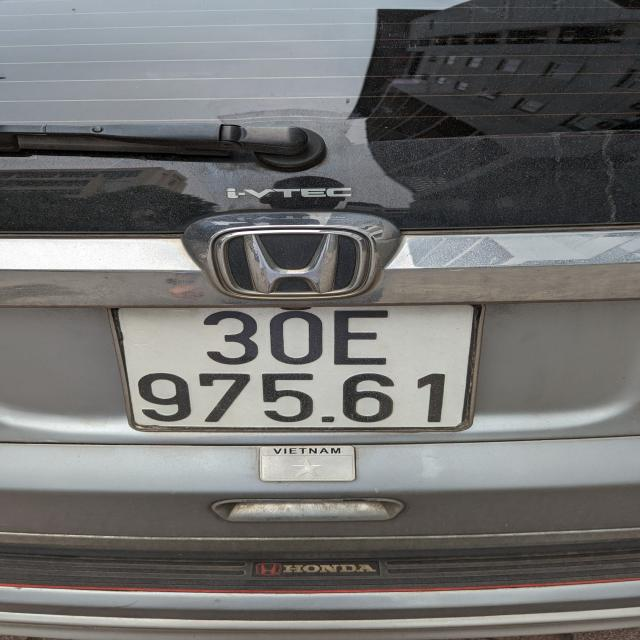License: (115, 304, 480, 432)
